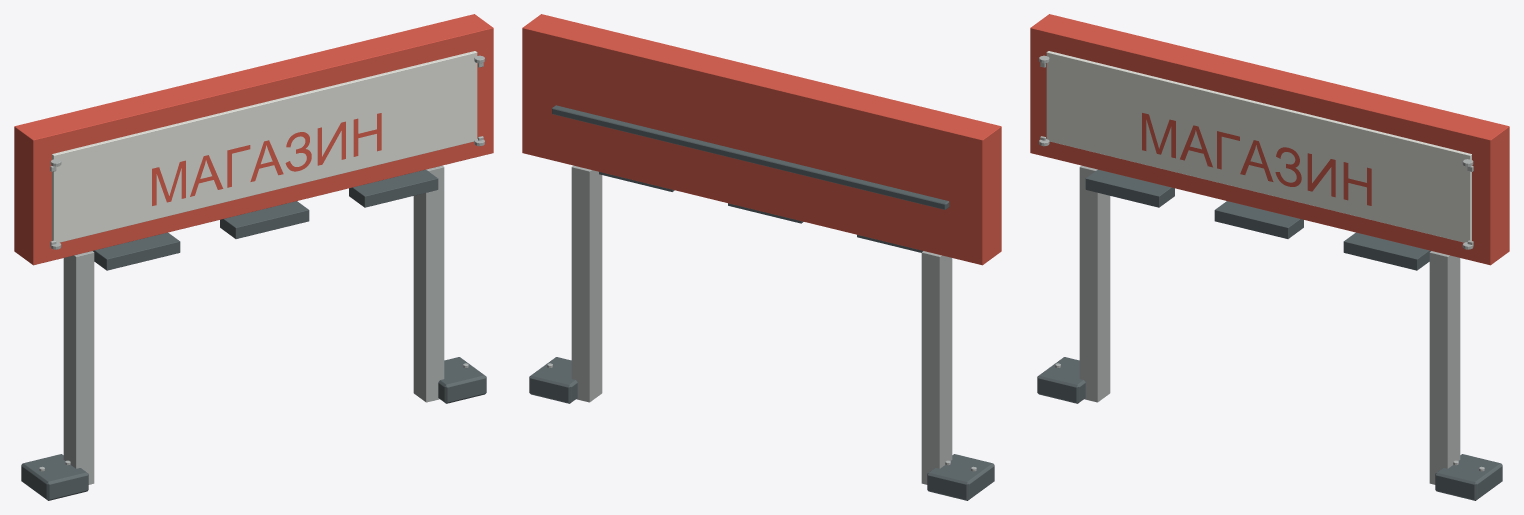
Rendered from Store_Sign_Large.fbx.
The picture shows the model from 3 angles, left to right: view 1: azimuth 30°, elevation 25°; view 2: azimuth 150°, elevation 25°; view 3: azimuth 330°, elevation 25°; orthographic projection.
Parts seen in each view (by area): view 1: Store_Sign_Large__LPCXFER; view 2: Store_Sign_Large__LPCXFER; view 3: Store_Sign_Large__LPCXFER.
Boxes of the visible parts, x1,y1,x2,y2 form: Store_Sign_Large__LPCXFER: (14, 14, 493, 500); Store_Sign_Large__LPCXFER: (522, 14, 1001, 500); Store_Sign_Large__LPCXFER: (1030, 14, 1509, 500).
Bounding box in the file's own units: 250 × 188 × 30.5.
